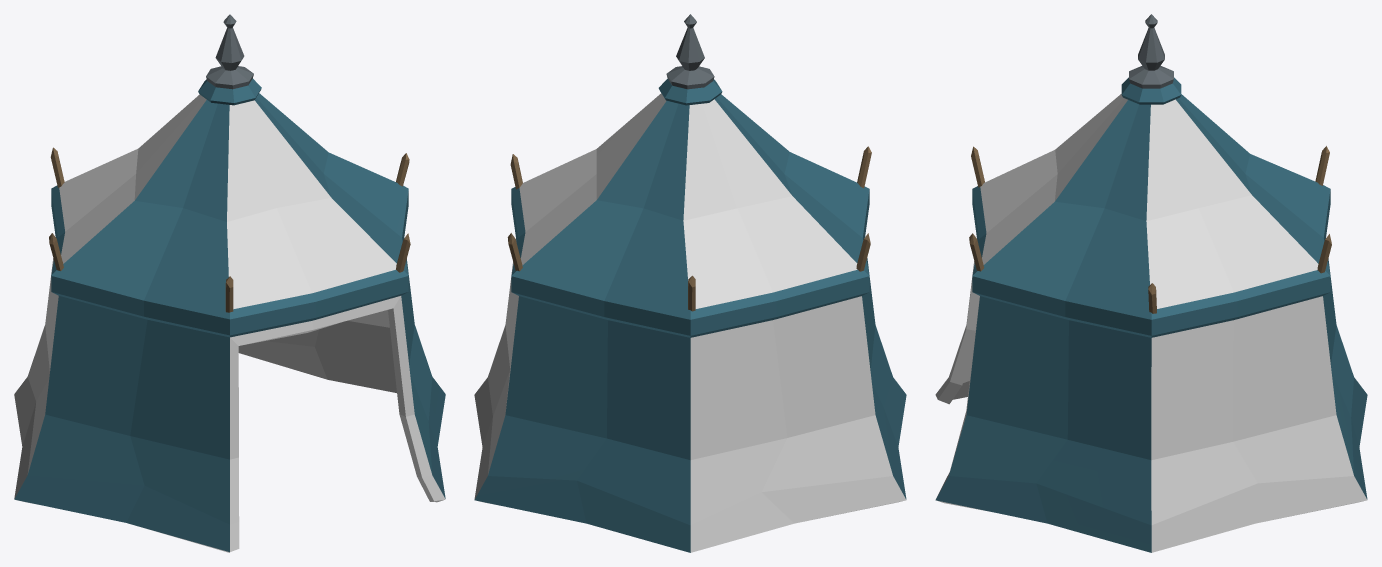
File: bld_tent_small.gltf
3 renders of one model, left to right at view 1: azimuth 30°, elevation 25°; view 2: azimuth 150°, elevation 25°; view 3: azimuth 270°, elevation 25°, orthographic.
Visible parts, largest first — view 1: bld_tent_small; view 2: bld_tent_small; view 3: bld_tent_small.
Boxes of the visible parts, <box> form: bld_tent_small: <box>14,14,445,552</box>; bld_tent_small: <box>474,14,906,552</box>; bld_tent_small: <box>935,14,1367,552</box>.
Bounding box in the file's own units: 4.42 × 4.29 × 3.83.
1 material, 1 textured.
